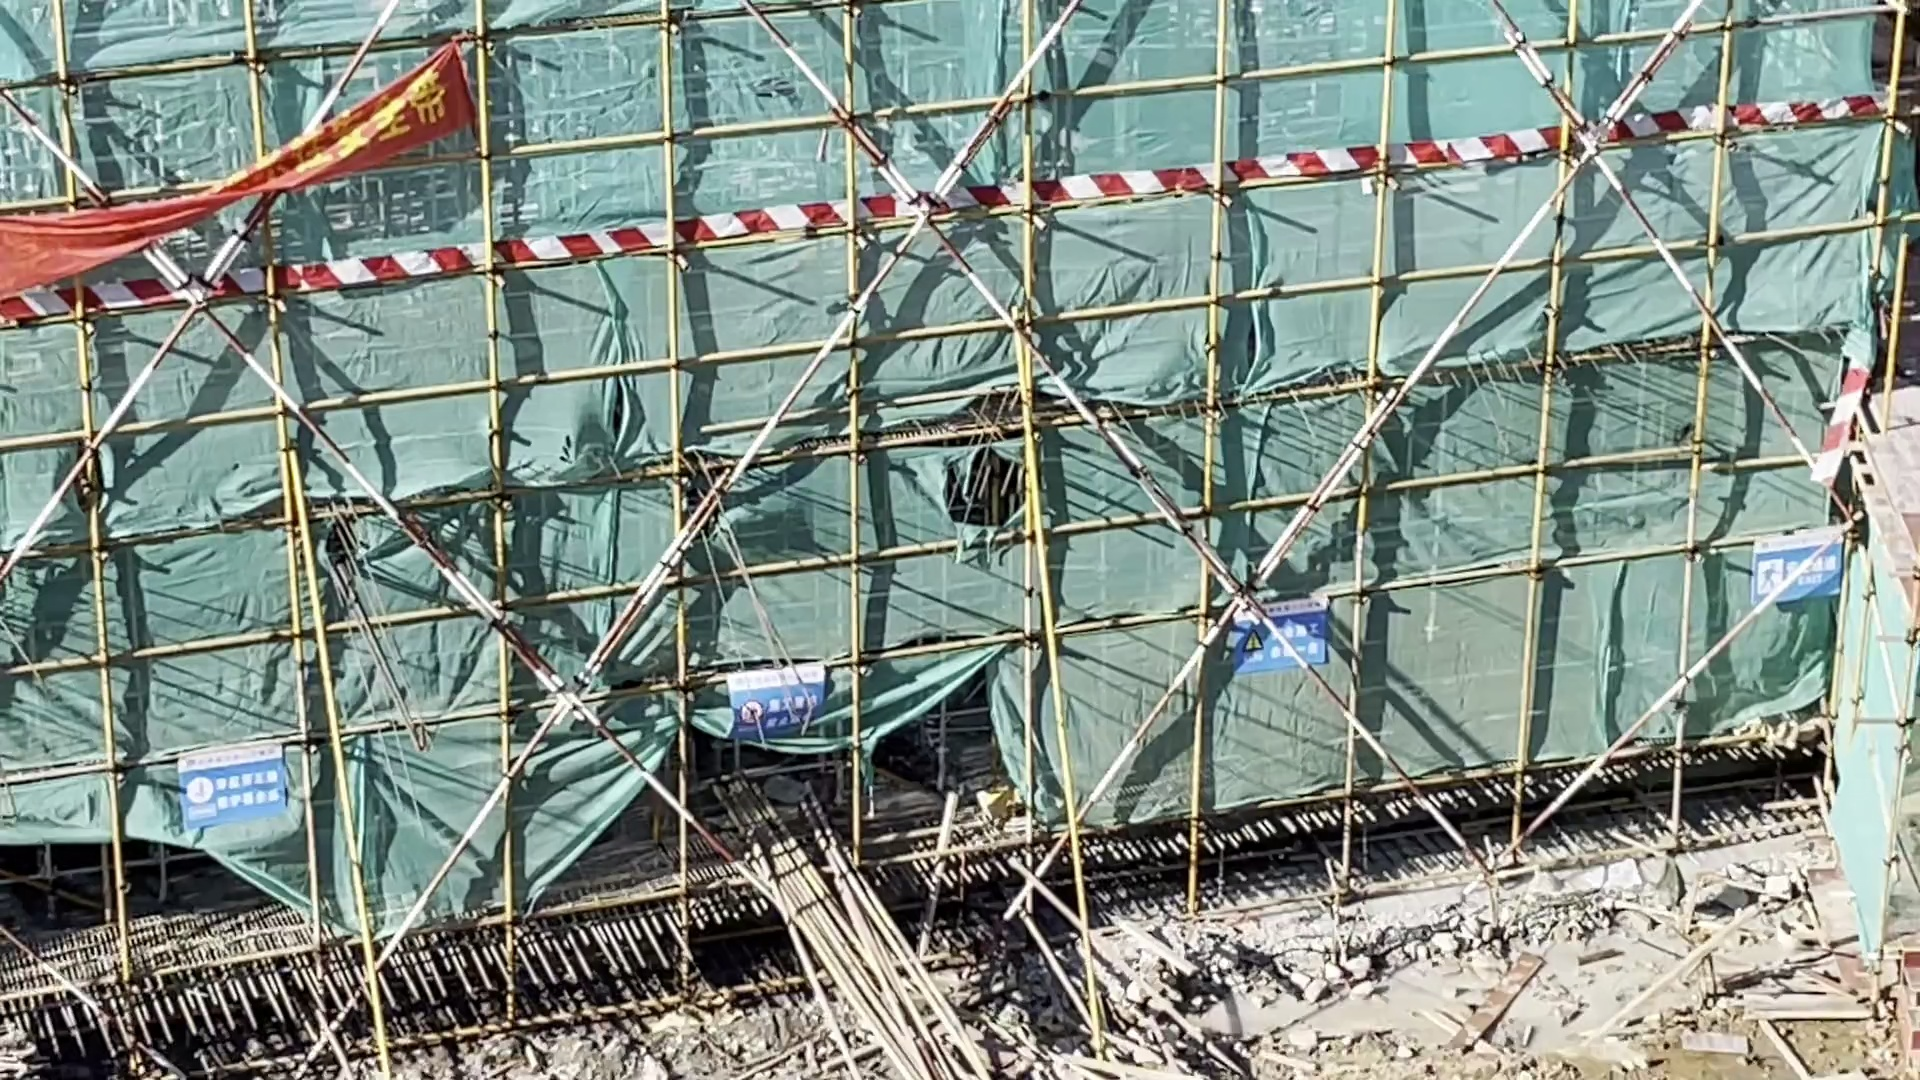slogan: (1, 26, 485, 316), (169, 736, 313, 829), (717, 657, 828, 760), (1203, 593, 1332, 680), (1746, 517, 1847, 607)
